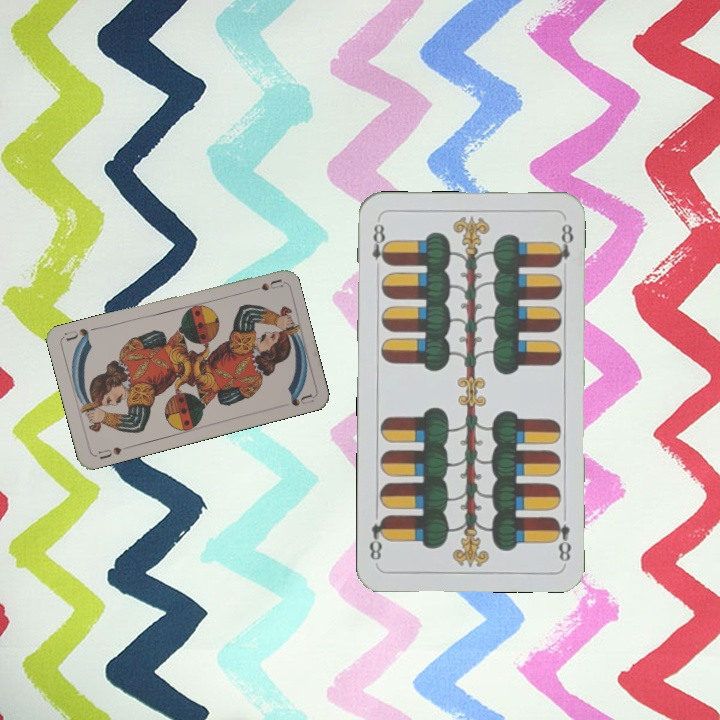E8: (549, 513, 574, 564), (368, 216, 391, 267)
SU: (243, 275, 284, 295), (94, 442, 131, 462)
